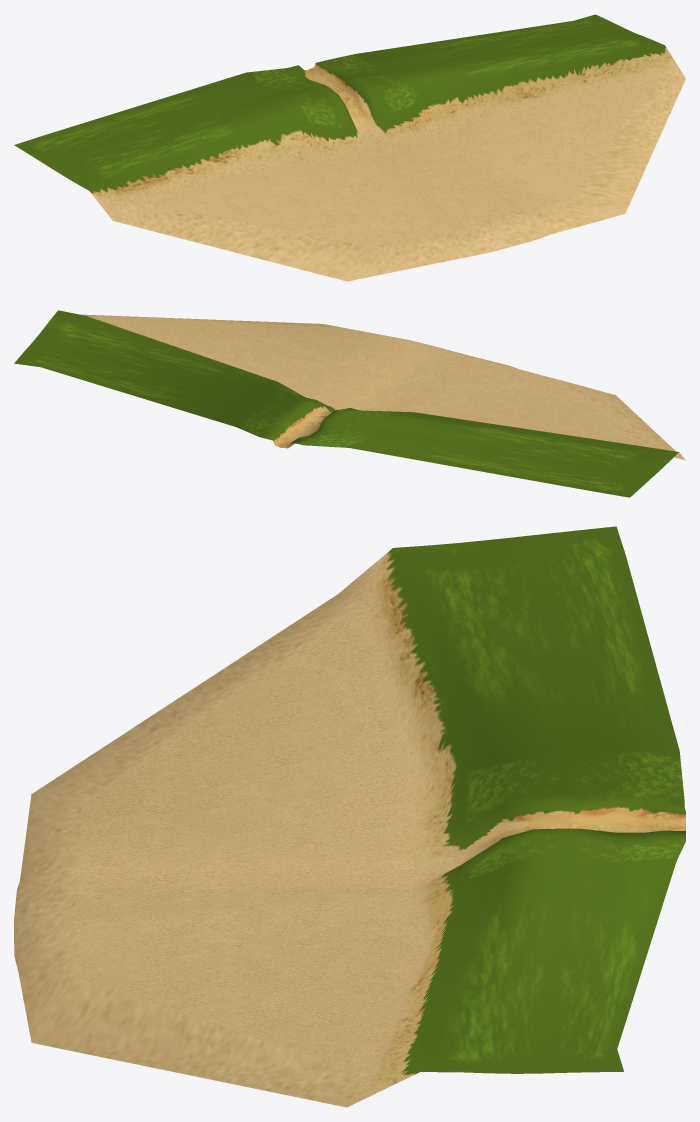
File: Beach 1.obj
3 views of the same model, one above another, from view 1: azimuth 30°, elevation 25°; view 2: azimuth 150°, elevation 25°; view 3: azimuth 270°, elevation 25° (orthographic). The views are drawn at different scales.
Visible parts, largest first — view 1: Beach:RoadKillOut; view 2: Beach:RoadKillOut; view 3: Beach:RoadKillOut.
Part boxes in pixels (left/top/right/bottom): Beach:RoadKillOut: left=14, top=14, right=685, bottom=281; Beach:RoadKillOut: left=14, top=310, right=685, bottom=497; Beach:RoadKillOut: left=14, top=526, right=685, bottom=1107.
Size of the model in its own units: 24034 by 2415 by 12776.
